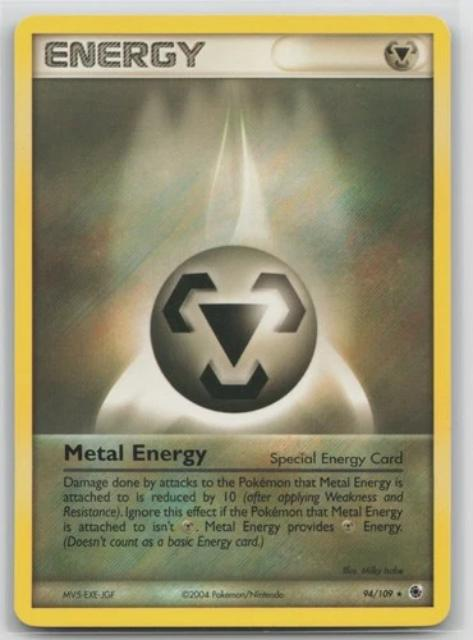Card: (7, 11, 456, 631)
Name: (57, 439, 212, 471)
